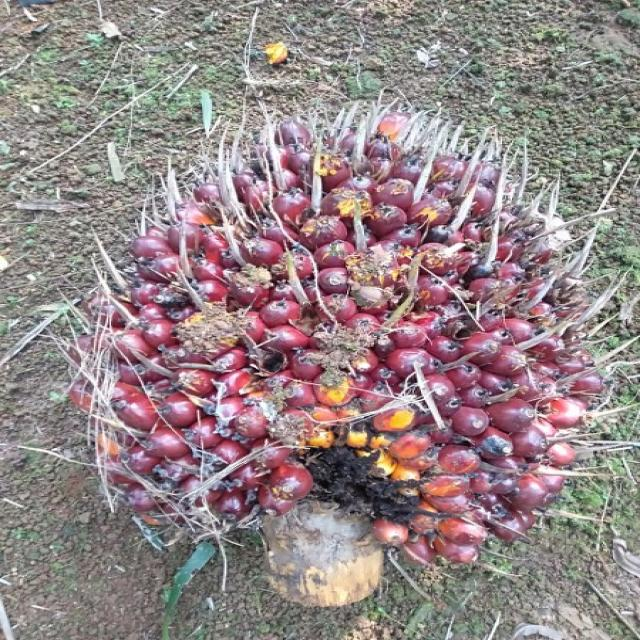fraksi 1: (67, 77, 622, 610)
